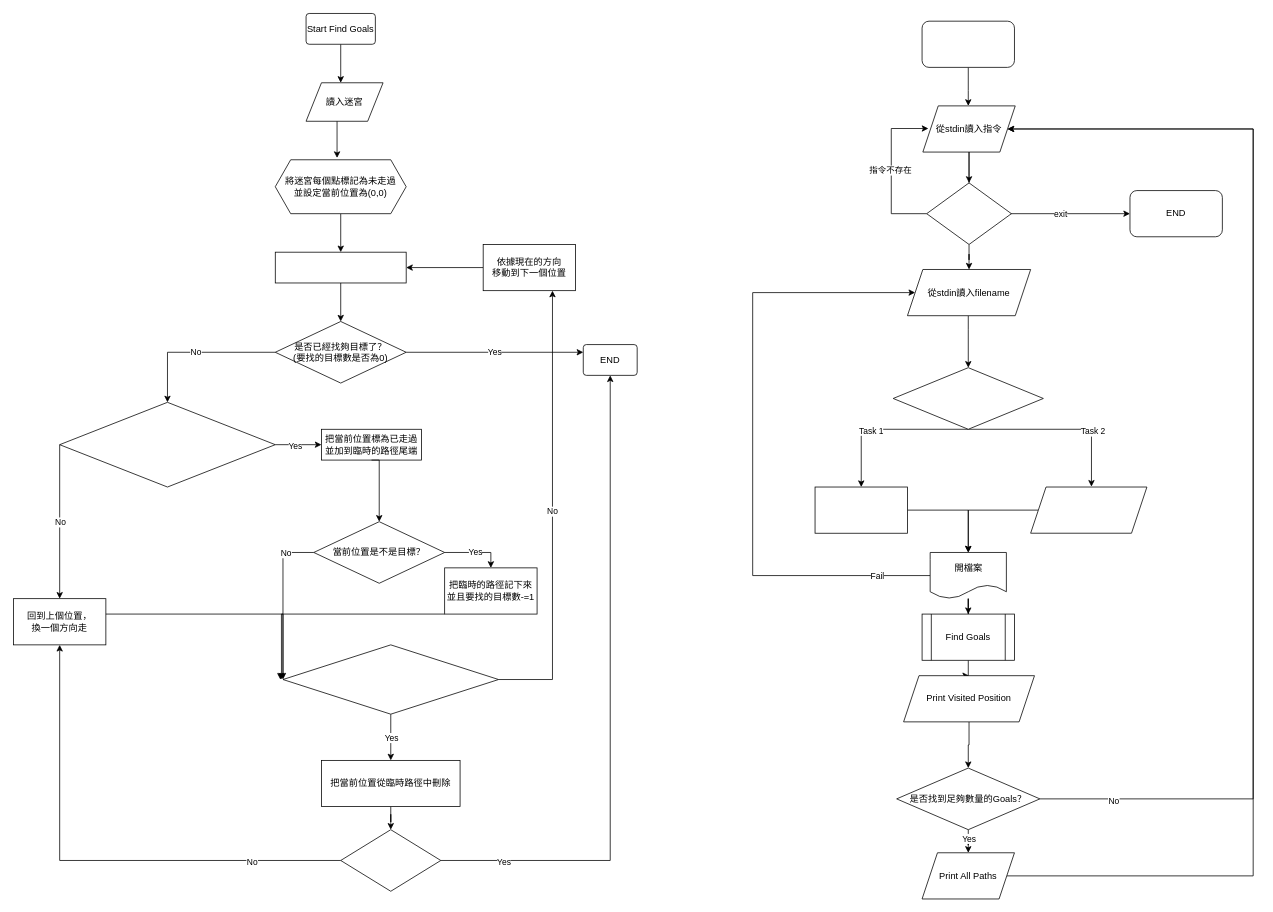
This 1273x912 diagram has some shape labels left out. Each missing label, with the centre of its shape:
(進入遞迴) 從當前位置開始走: pixel 340 267
Count of Goals = 1: pixel 860 509
Start Main: pixel 967 43
任務一or任務二？ (OneGoals or MoreGoals): pixel 967 398
指令是否合法？: pixel 968 213
當前位置是否可以走？ (是否超出邊界、障礙物、或是走過了): pixel 167 444
當前位置是否為起點: pixel 390 860
讀入Count of Goals: pixel 1088 509
這個位置的四個方向是否都試過了？: pixel 390 679
